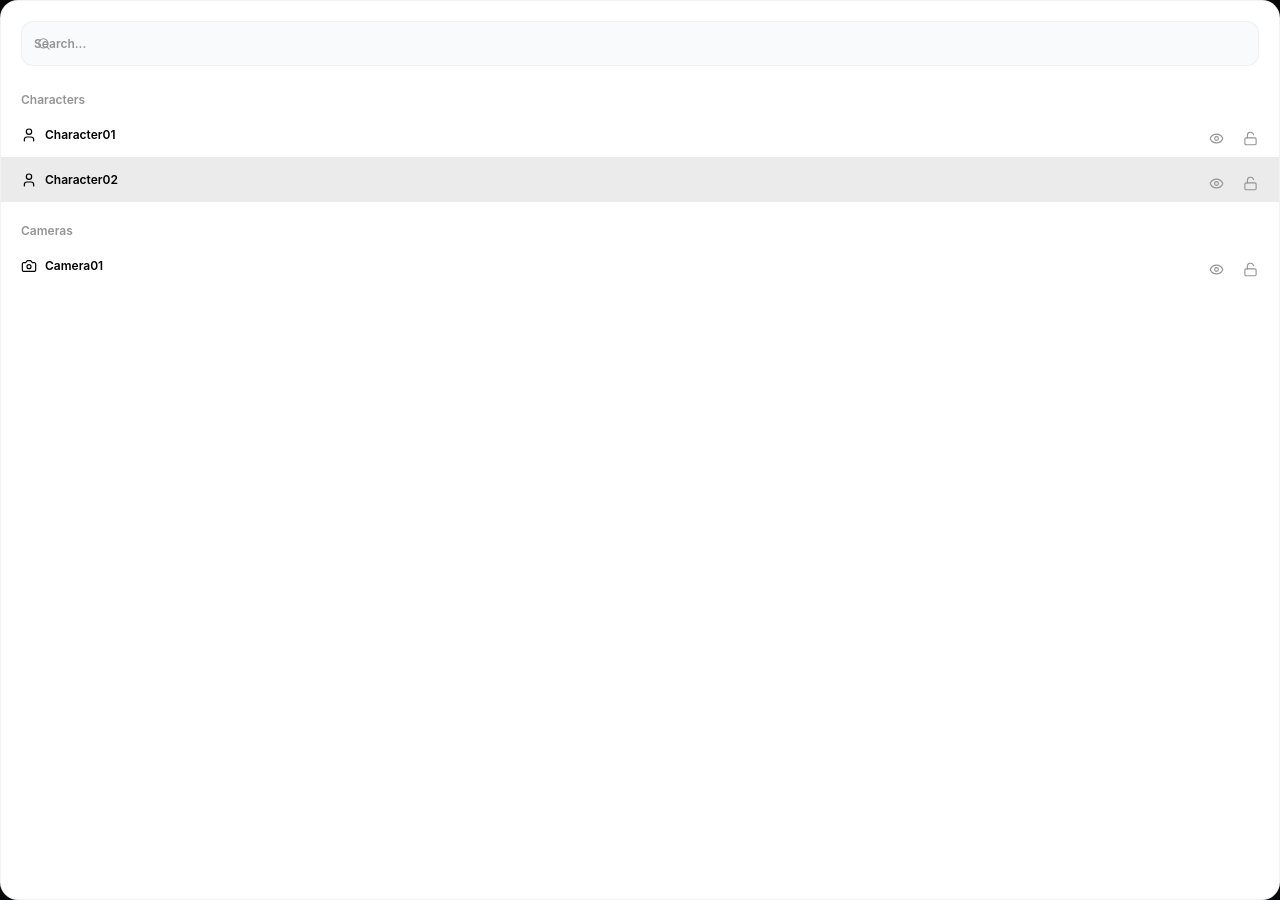
Test: deletes all selected rows when users press the keyboard delete key
The width and height of the screenshot is (1280, 900).
Click the button "Character01": (68, 134) [21,126,116,143]
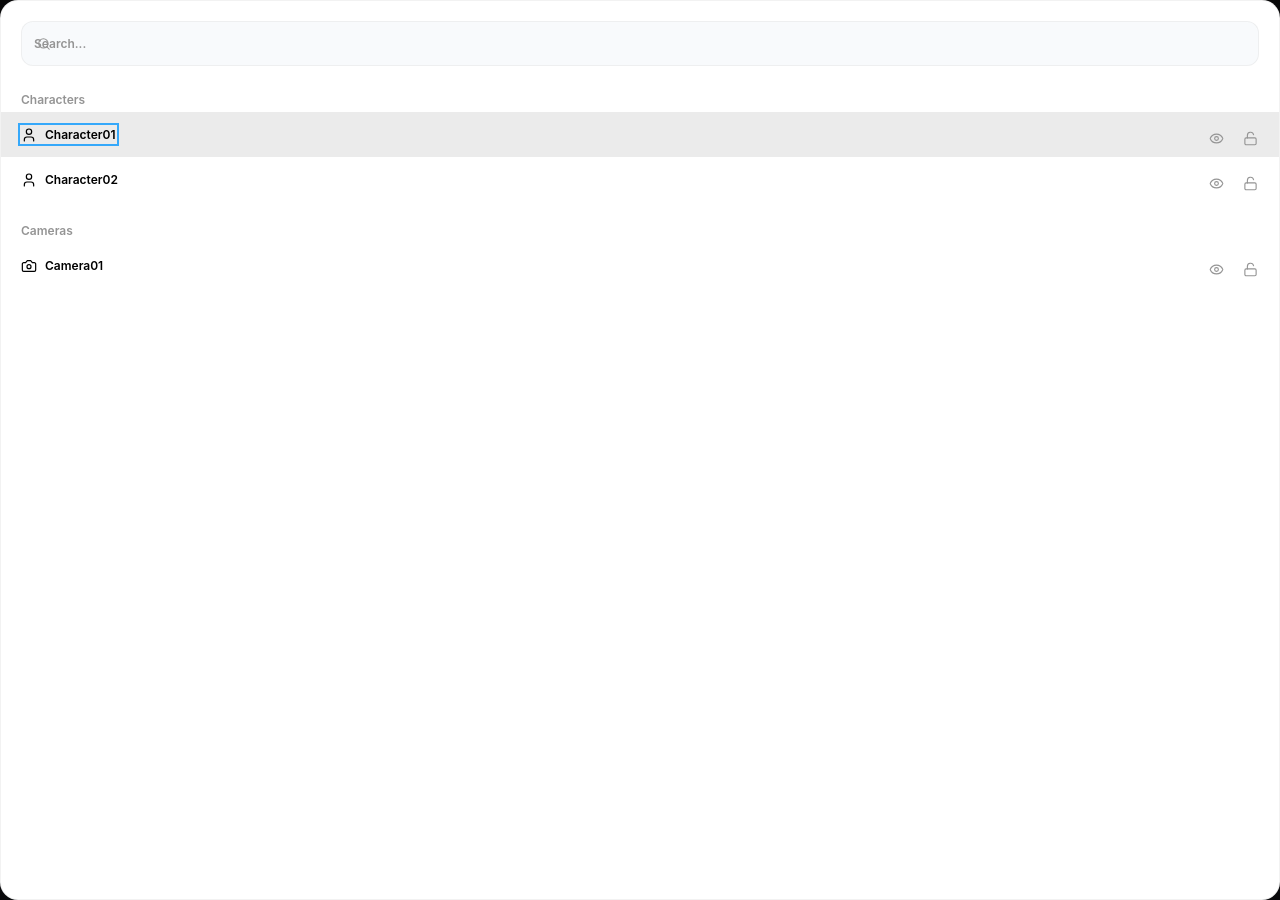
Type keys "{Shift>}"
Click the button "Character02": (70, 180) [21,171,118,188]
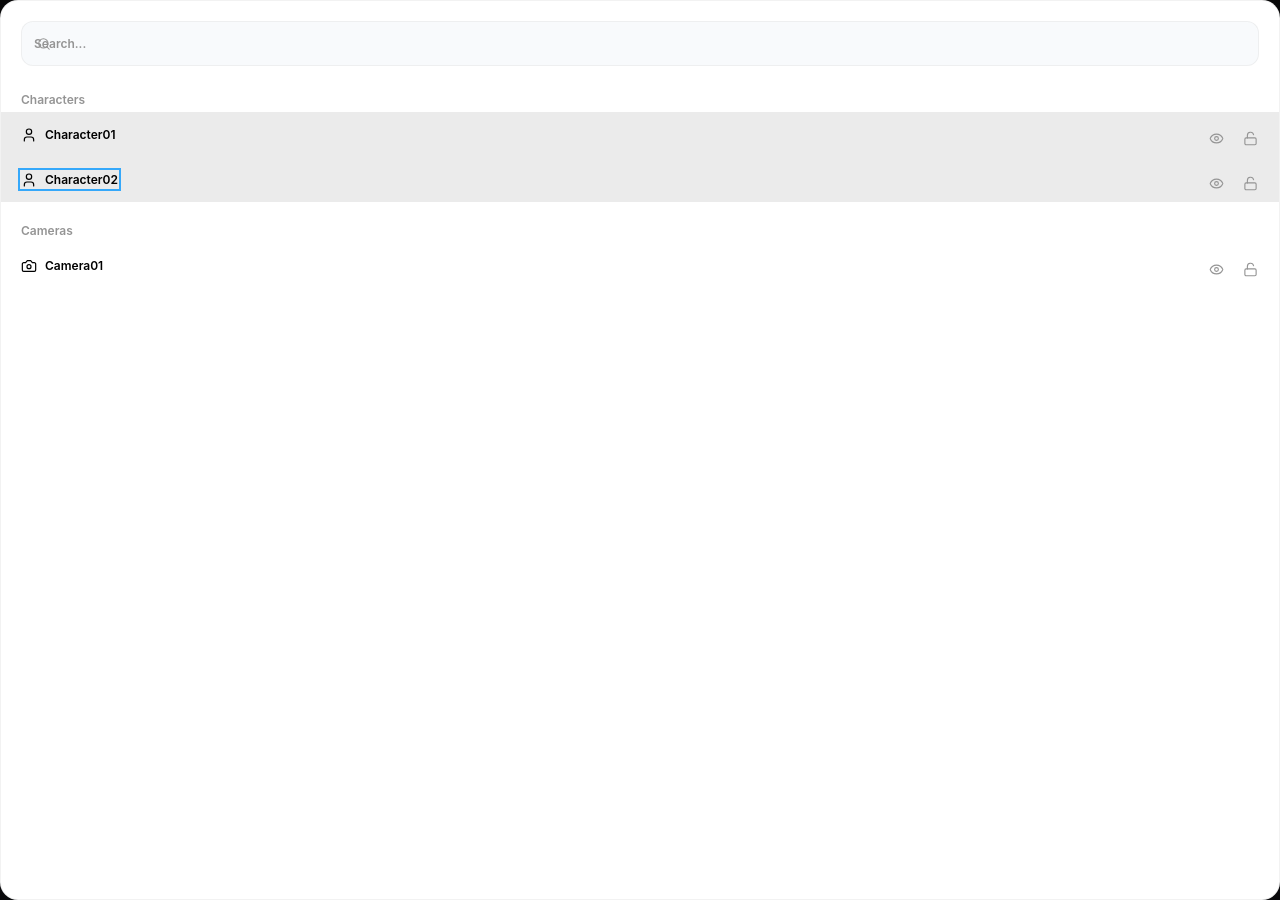
Type keys "{/Shift}"
Press Delete
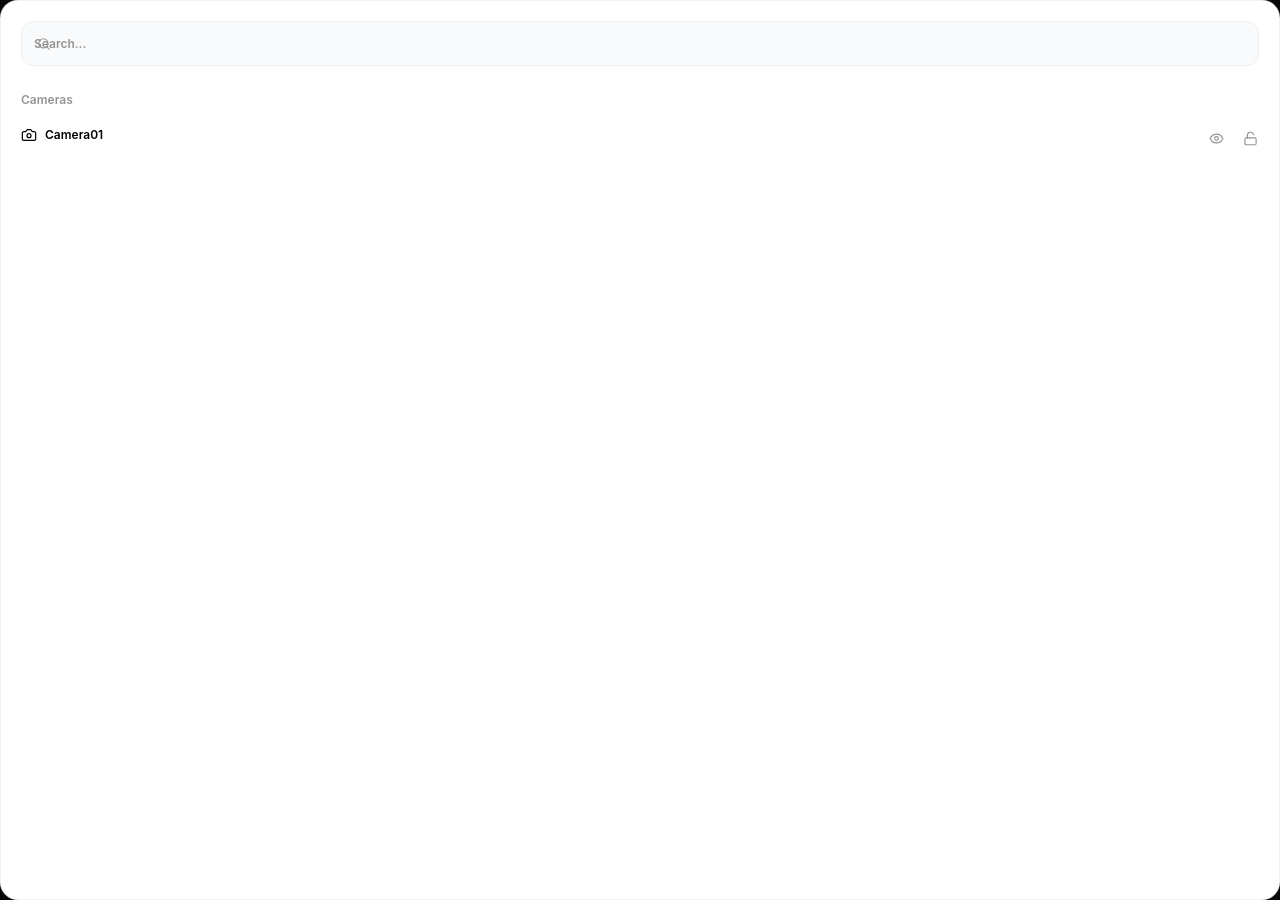
Expected: the button "Character01" is gone
Expected: the button "Character02" is gone
